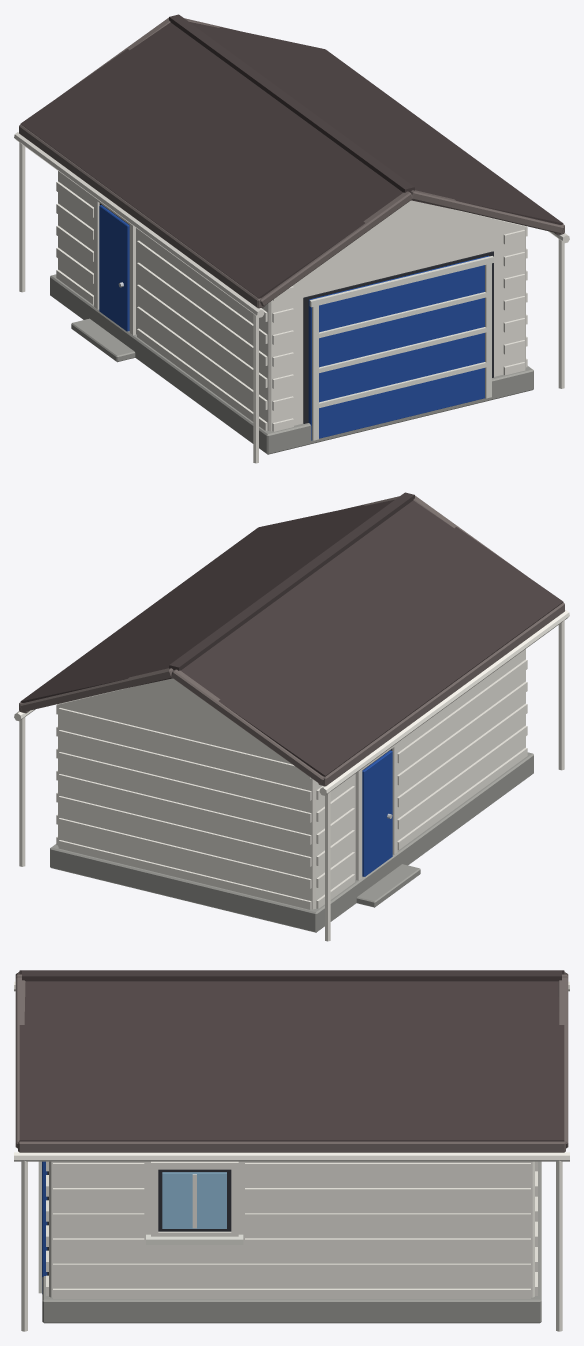
File: DetachedGarage.glb
The picture shows the model from 3 angles, top to bottom: view 1: azimuth 30°, elevation 25°; view 2: azimuth 150°, elevation 25°; view 3: azimuth 270°, elevation 25°; orthographic projection. The views are drawn at different scales.
Parts seen in each view (by area): view 1: Body; view 2: Body; view 3: Body.
Part boxes in pixels (x1,y1,x2,y2): Body: (14,14,569,463); Body: (14,492,569,941); Body: (14,970,569,1331).
Size of the model in its own units: 5.1 by 3.75 by 6.86.
